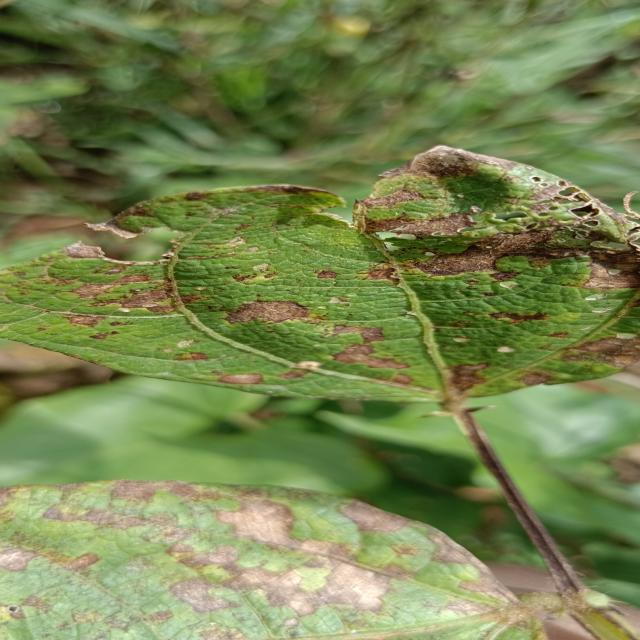Black gram_leaf spot: (3, 144, 640, 398), (0, 480, 523, 640)
